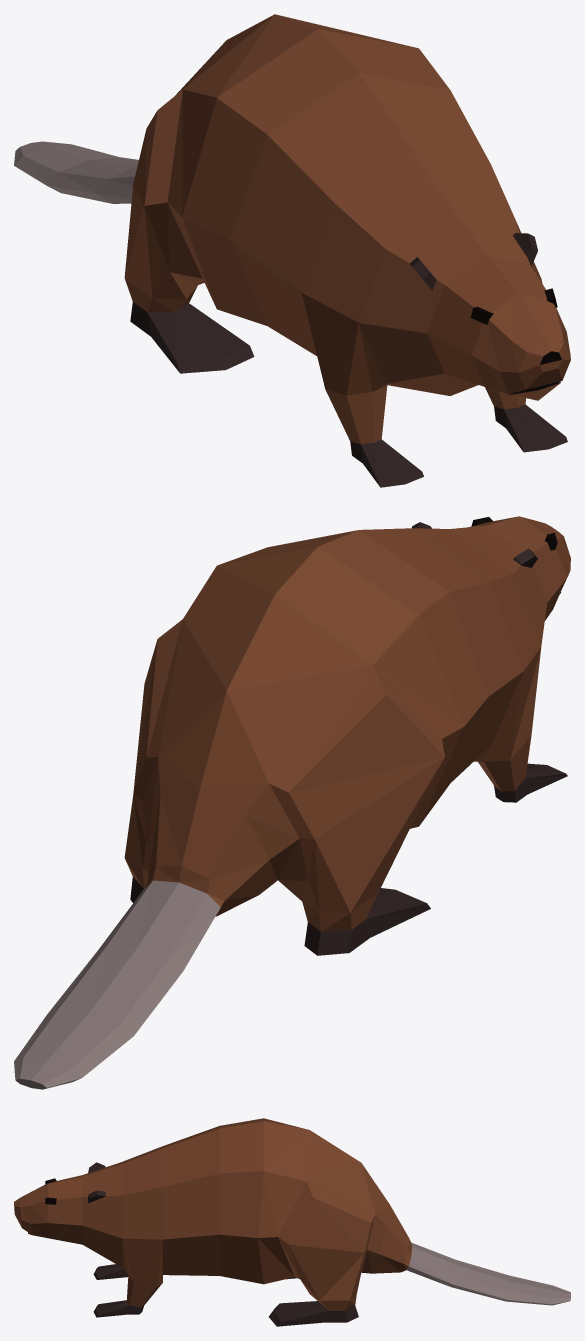
File: beaver.glb
The picture shows the model from 3 angles, top to bottom: view 1: azimuth 30°, elevation 25°; view 2: azimuth 150°, elevation 25°; view 3: azimuth 270°, elevation 25°; orthographic projection. The views are drawn at different scales.
Parts seen in each view (by area): view 1: Geo_Beaver; view 2: Geo_Beaver; view 3: Geo_Beaver.
Boxes of the visible parts, x1,y1,x2,y2 form: Geo_Beaver: [14, 14, 570, 487]; Geo_Beaver: [14, 516, 570, 1089]; Geo_Beaver: [14, 1118, 570, 1326].
Size of the model in its own units: 0.3168 by 0.3379 by 0.95.
Materials: 1 (1 with a texture image).
